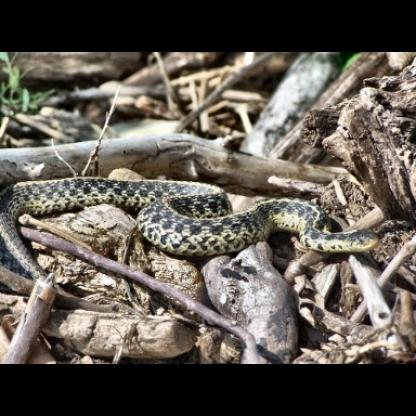Snake: (10, 157, 381, 258)
